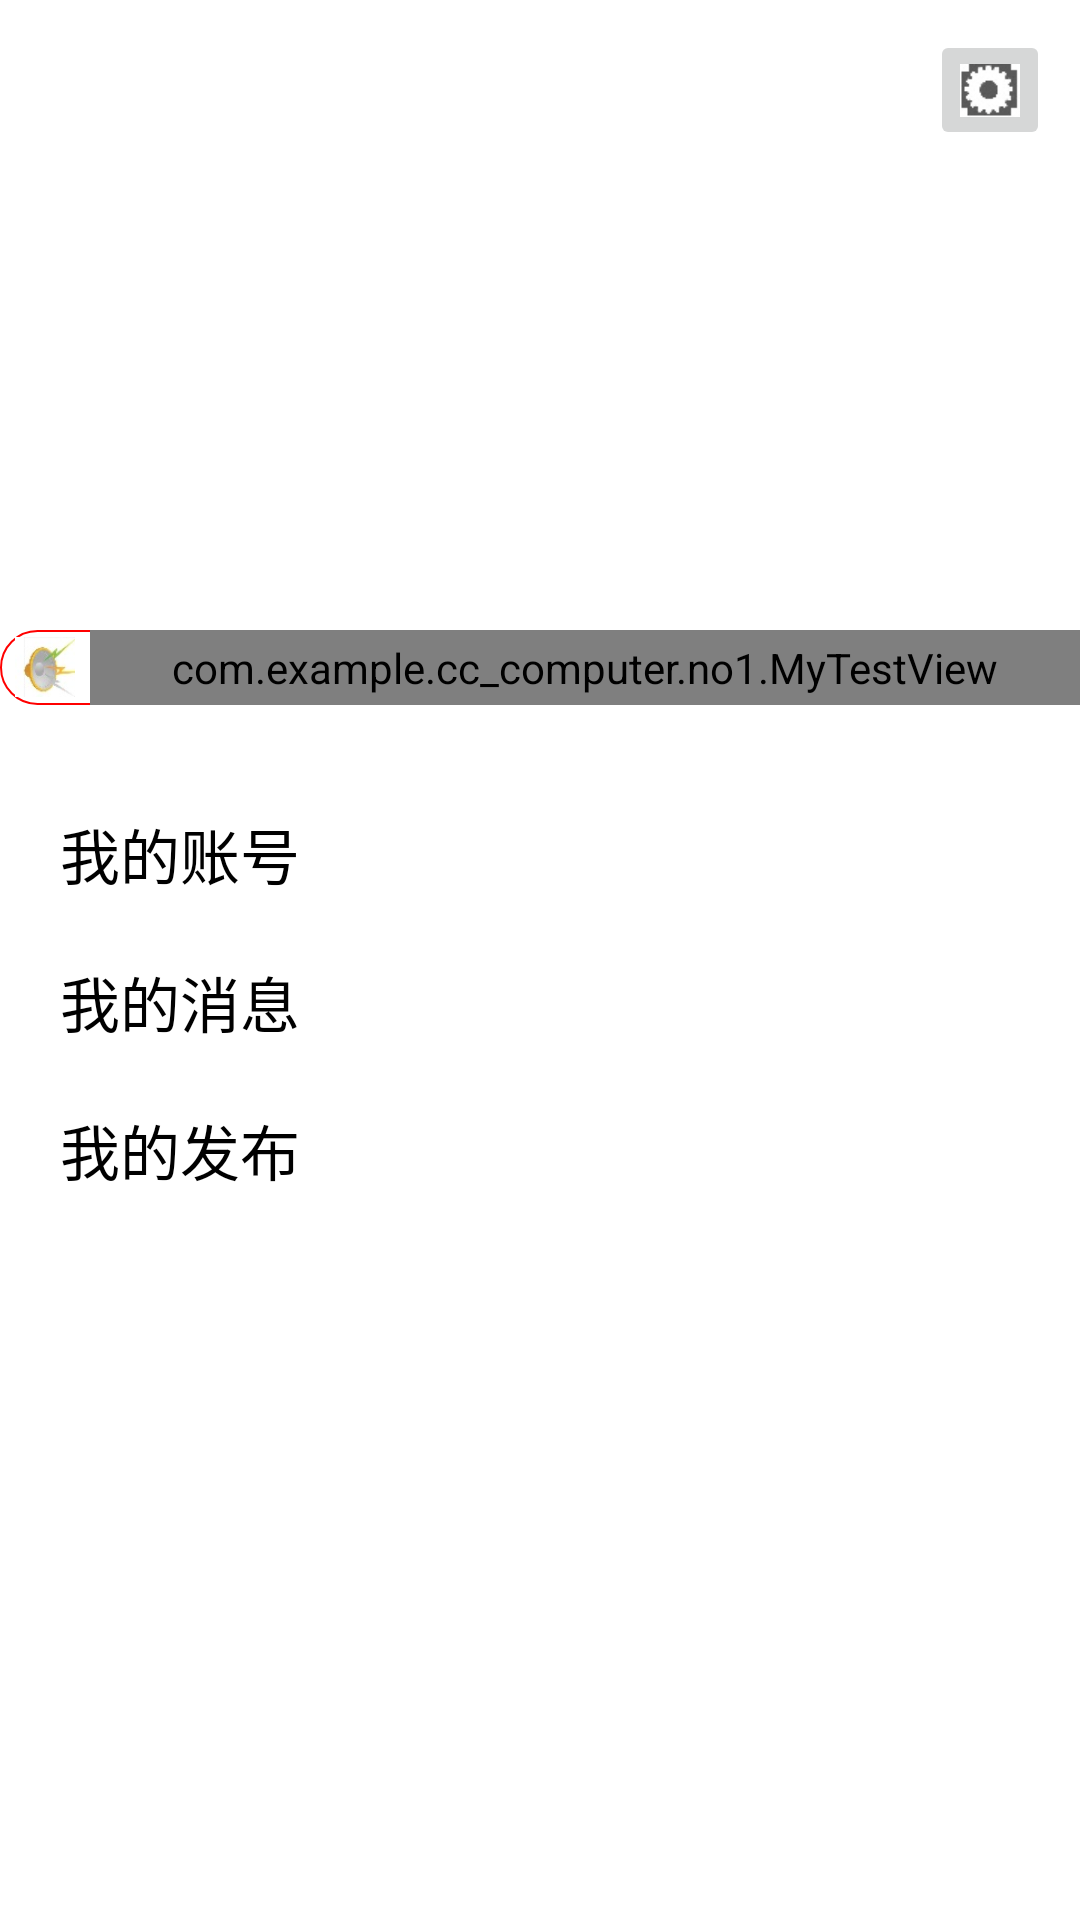

Where icons sit on this 1080w x 1920h app screen, as [x1,y1,x2,y2]:
setting: [942,48,1038,132]
speaker: [23,639,75,693]
